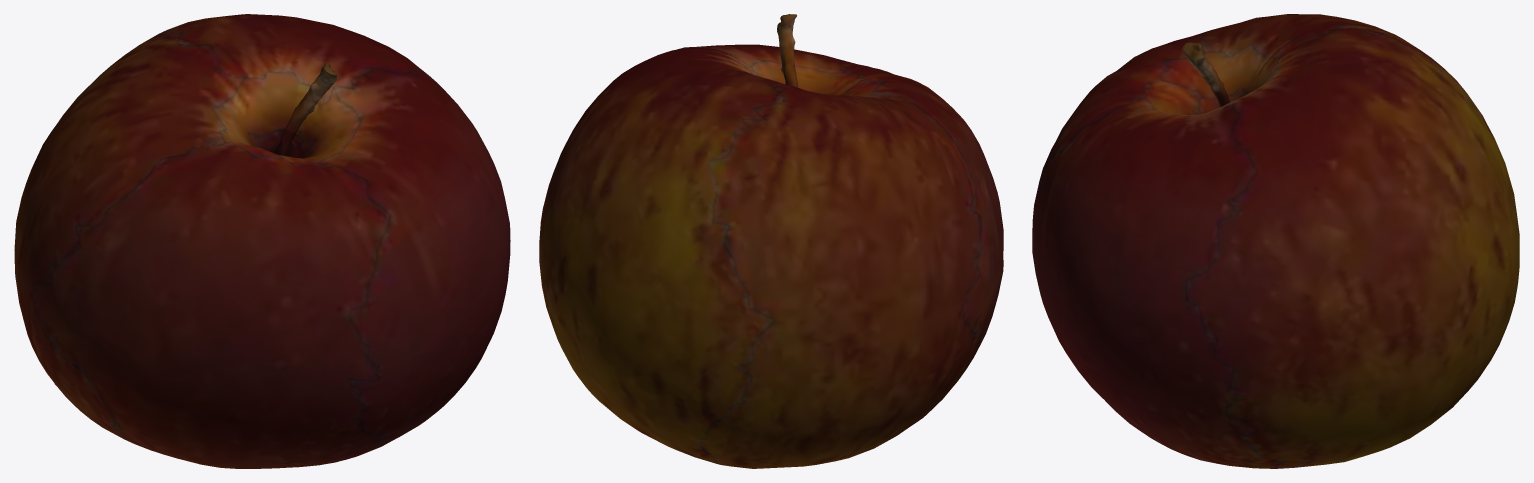
The model's file is food_apple_01.glb.
The picture shows the model from 3 angles, left to right: view 1: azimuth 30°, elevation 25°; view 2: azimuth 150°, elevation 25°; view 3: azimuth 270°, elevation 25°; orthographic projection. The views are drawn at different scales.
Visible parts, largest first — view 1: food_apple_01; view 2: food_apple_01; view 3: food_apple_01.
Part boxes in pixels (x1,y1,x2,y2): food_apple_01: (14, 14, 510, 468); food_apple_01: (539, 14, 1003, 468); food_apple_01: (1032, 14, 1519, 468).
Bounding box in the file's own units: 0.0976 × 0.0854 × 0.0959.
Materials: 1 (1 with a texture image).
